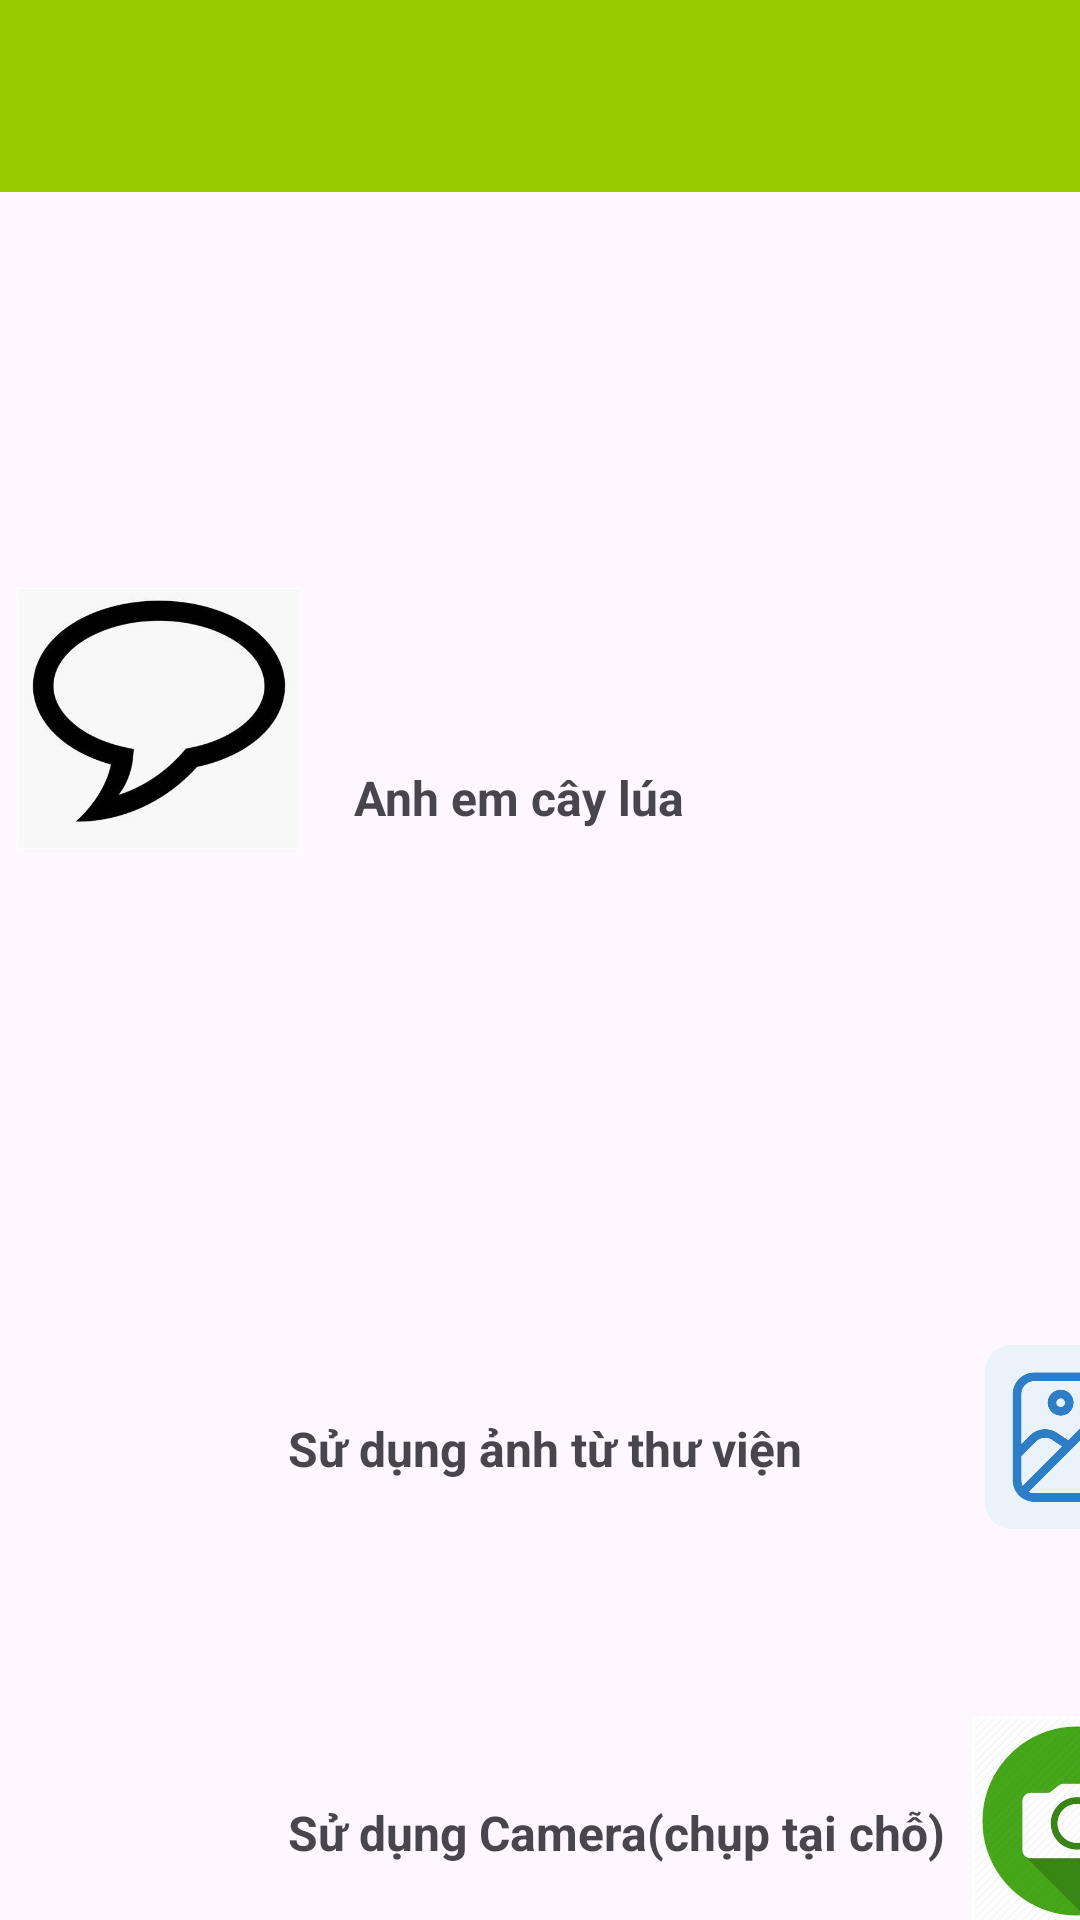

Locate icon controls on the screen. Image size 1080 × 1920, boxes as [left=x1, top=y1, right=x2, bottom=y2].
group chat: [left=32, top=600, right=286, bottom=822]
